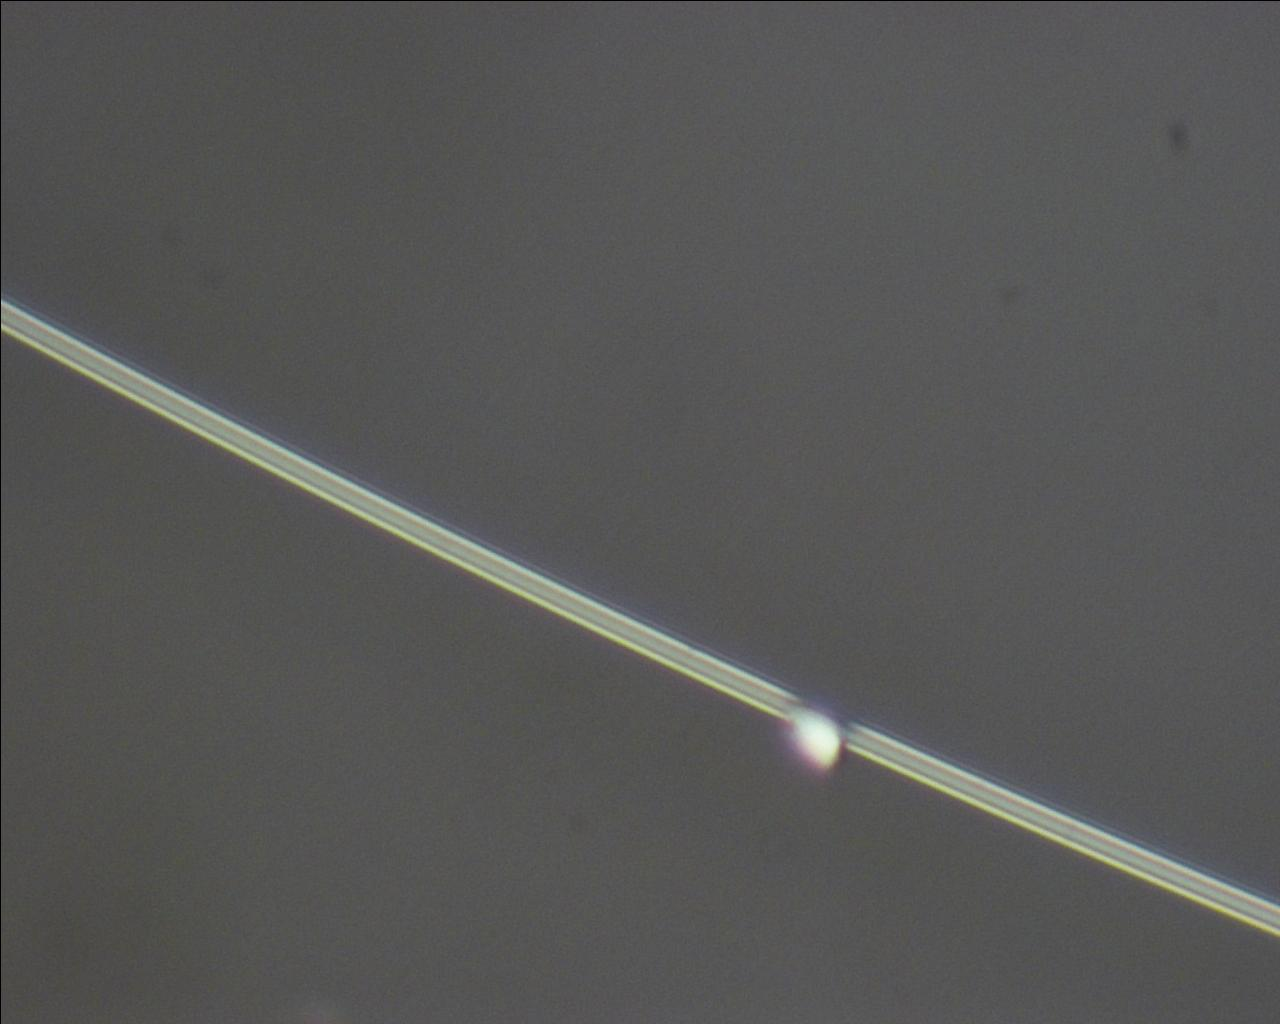fiber: (0, 297, 1280, 939)
